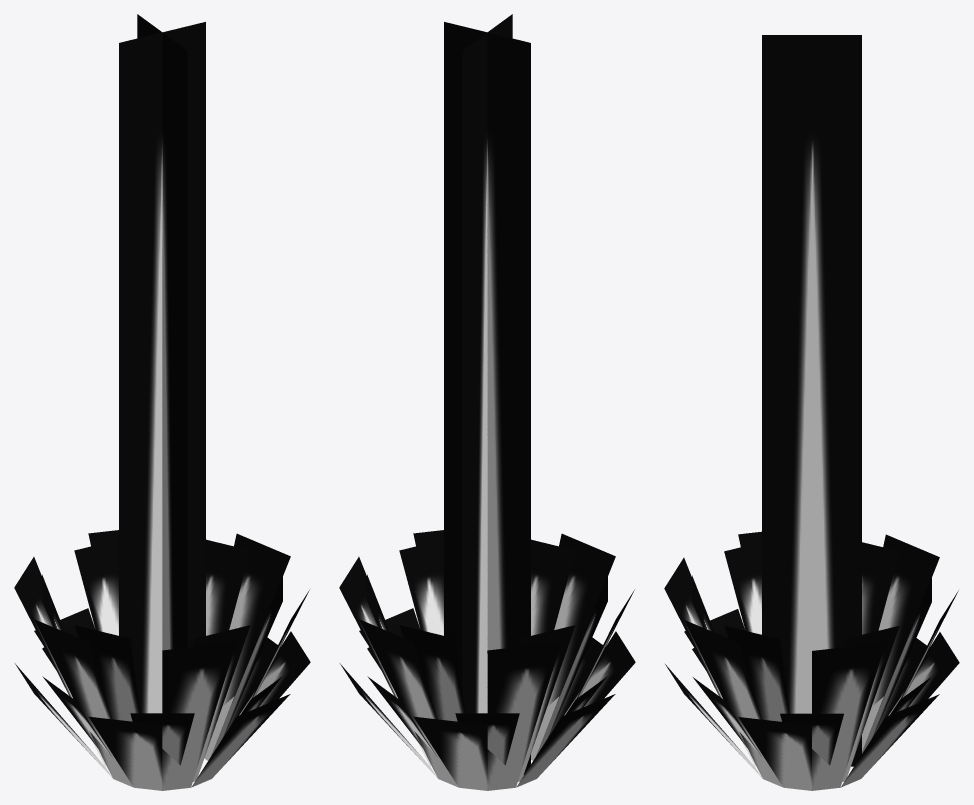
Rendered from Chara_pop.FBX.
The picture shows the model from 3 angles, left to right: view 1: azimuth 30°, elevation 25°; view 2: azimuth 150°, elevation 25°; view 3: azimuth 270°, elevation 25°; orthographic projection.
Parts seen in each view (by area): view 1: Plane001; view 2: Plane001; view 3: Plane001.
Part boxes in pixels (<box>): Plane001: <box>14,14,310,790</box>; Plane001: <box>339,14,635,790</box>; Plane001: <box>664,35,959,790</box>.
Size of the model in its own units: 138 by 377 by 138.
